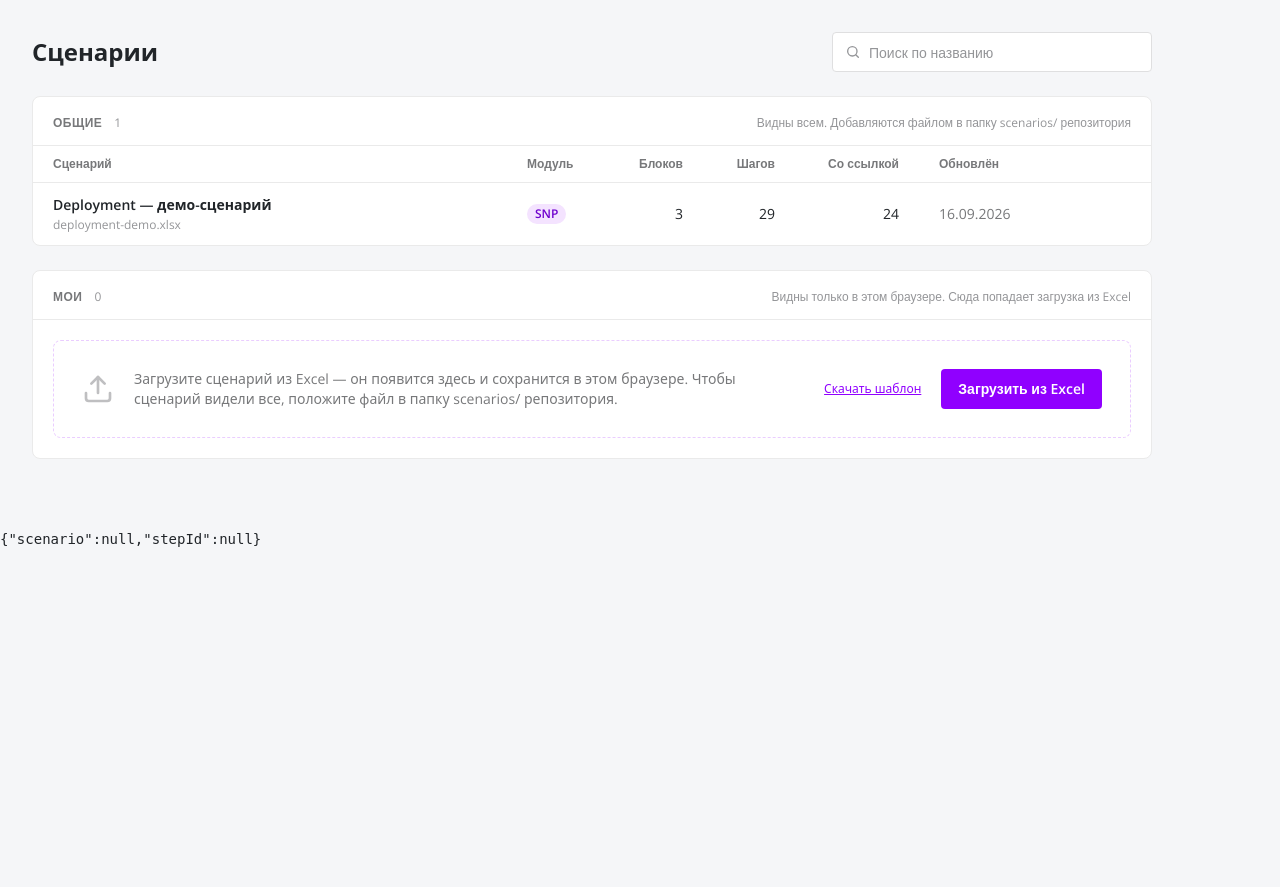
Test case: App: раскладка и переходы экрана сценария (SPEC §4.3:263, §4.4, §4.7:318; DN-26, DN-ysk) › общий: открытие на первом шаге, переход к 1.10, «‹ Сценарии», повторное открытие без повторного fetch (А4–А7, DN-ysk)
The width and height of the screenshot is (1280, 887).
Click the button "Deployment — демо-сценарий" at (270, 205), box [53,195,487,215]
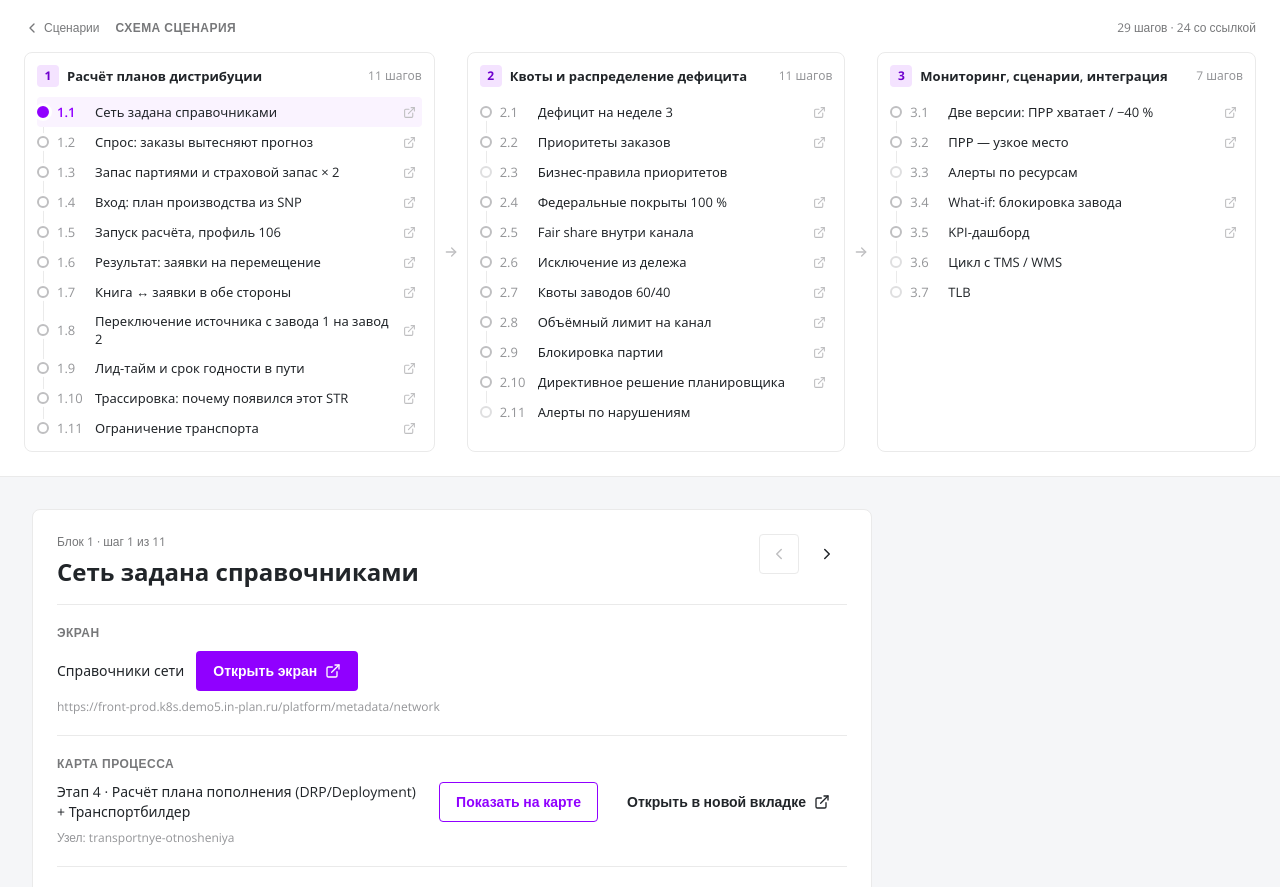
Check: the heading "Сеть задана справочниками" is shown, box [57,555,419,588]
Check: the button "Deployment — демо-сценарий" is gone
Click the button "1.10 Трассировка: почему появился этот STR" at (229, 398), box [37,383,422,413]
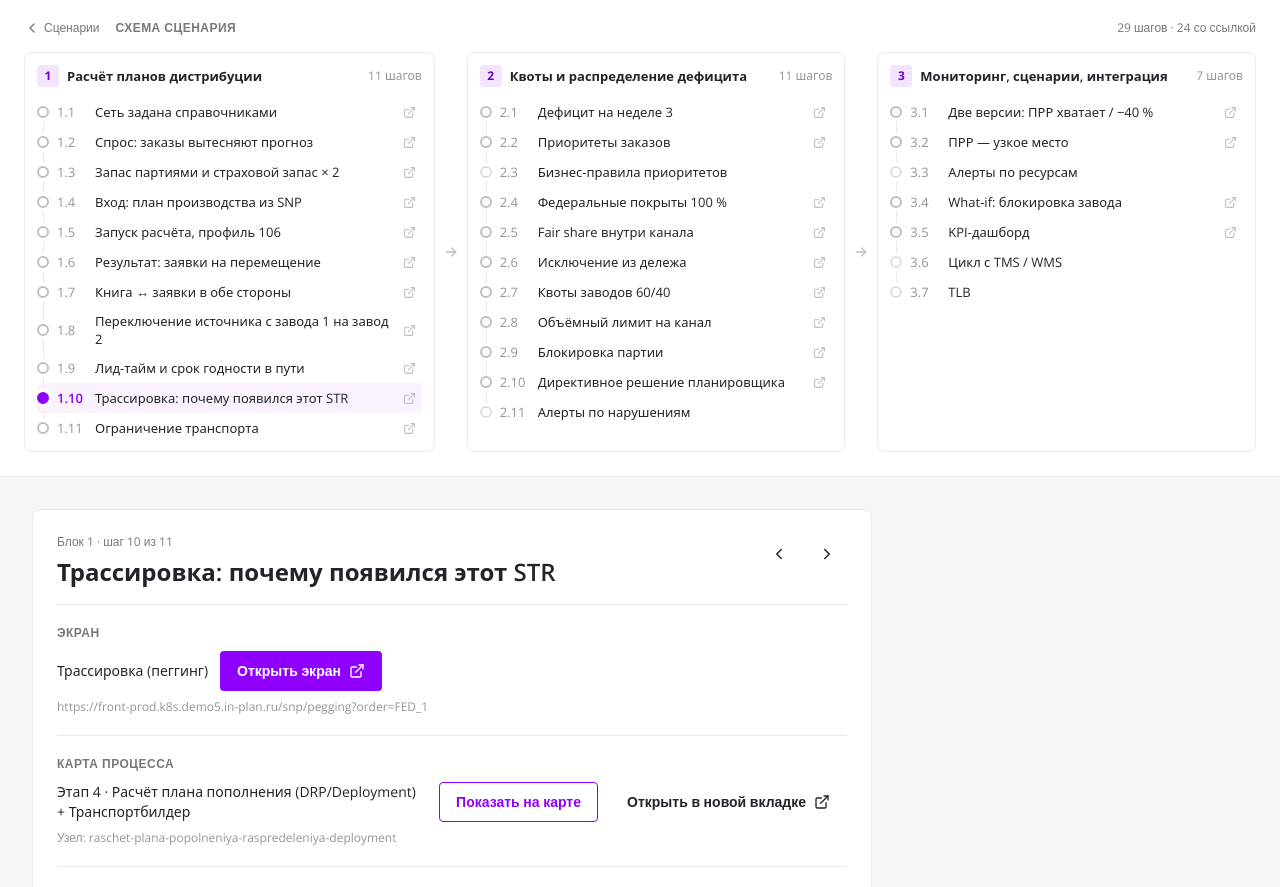
Check: the heading "Трассировка: почему появился этот STR" is shown, box [57,555,556,588]
Click the button "Сценарии" at (62, 28), box [24,20,100,36]
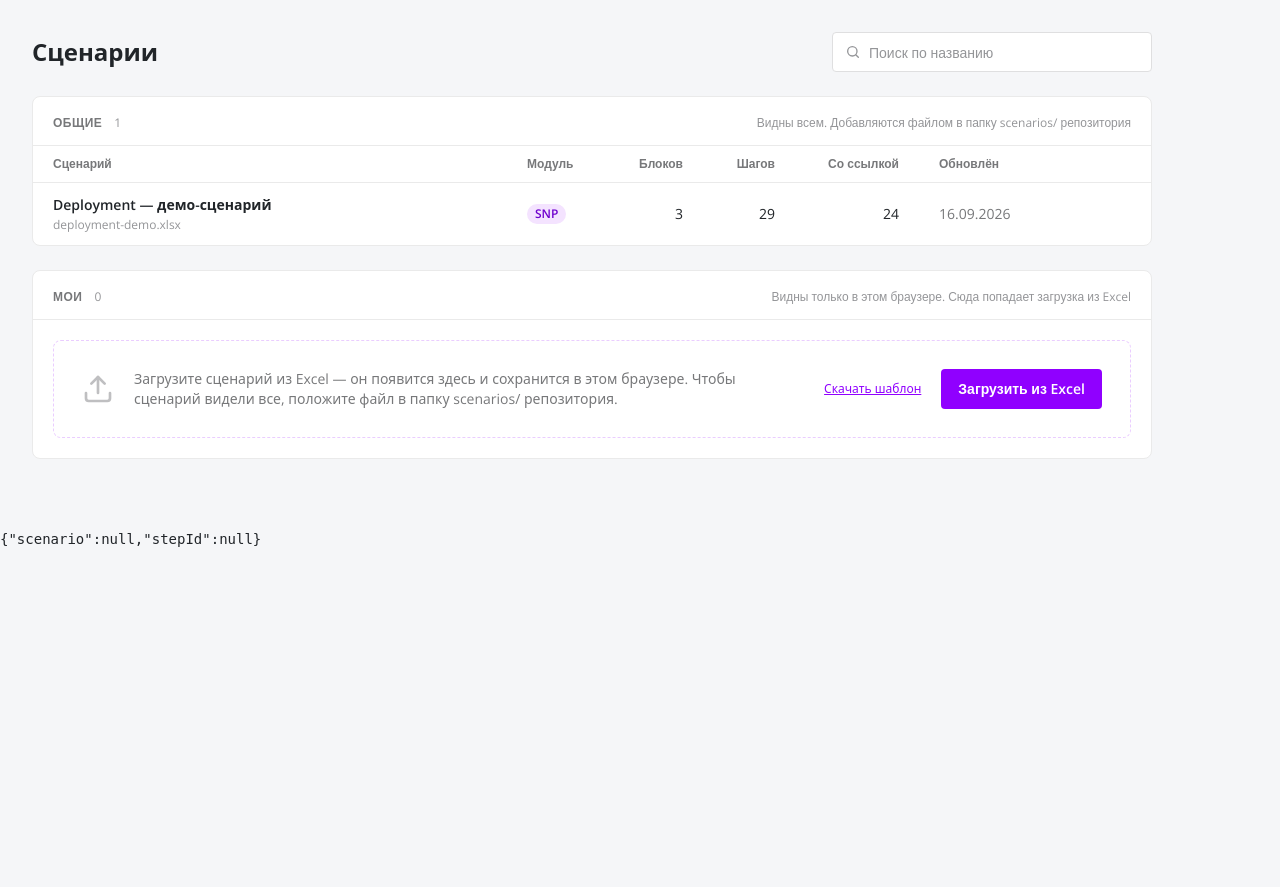
Check: the heading "Сценарии" is shown, box [32,36,158,68]
Check: the heading "СХЕМА СЦЕНАРИЯ" is gone
Check: the button "Deployment — демо-сценарий" is shown
Click the button "Deployment — демо-сценарий" at (270, 205), box [53,195,487,215]
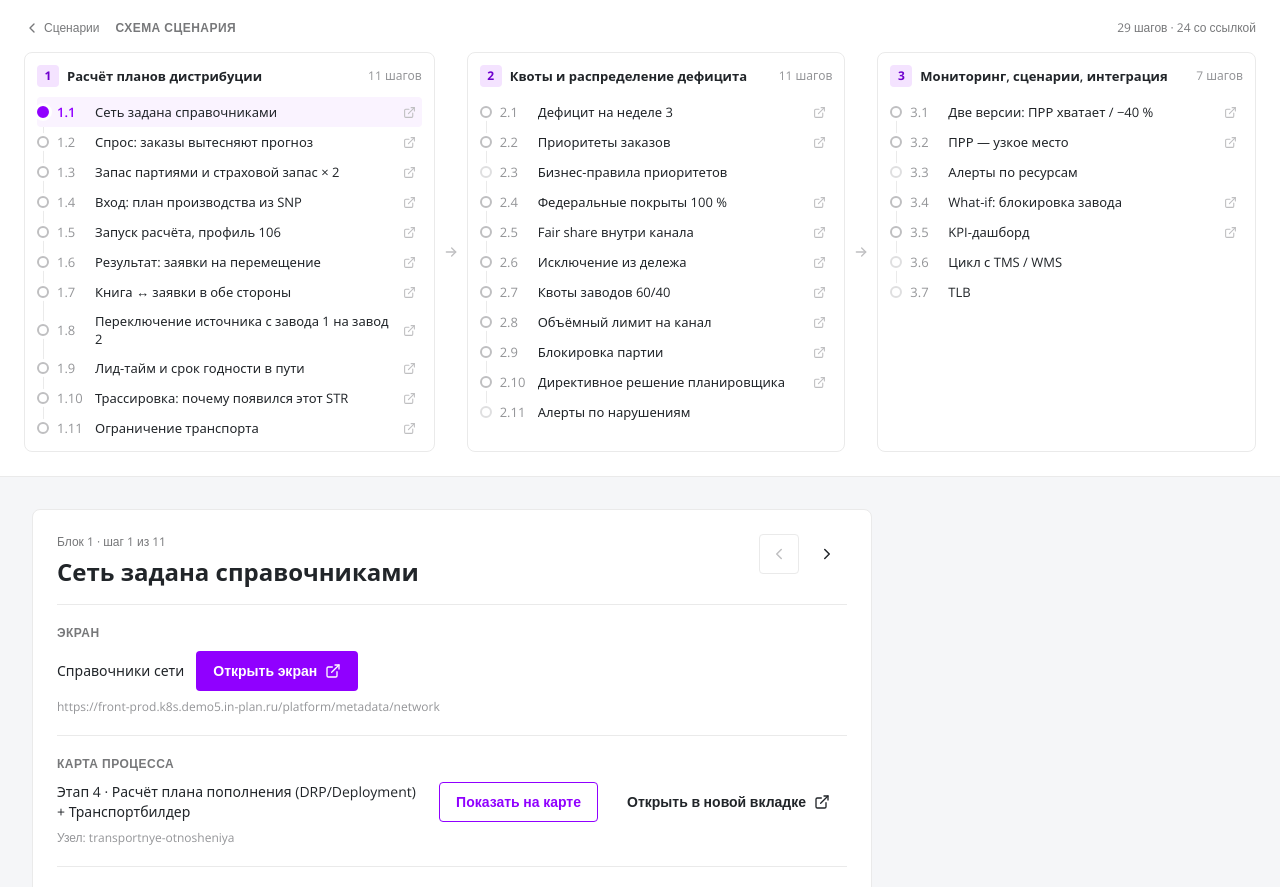
Check: the heading "Сеть задана справочниками" is shown, box [57,555,419,588]
